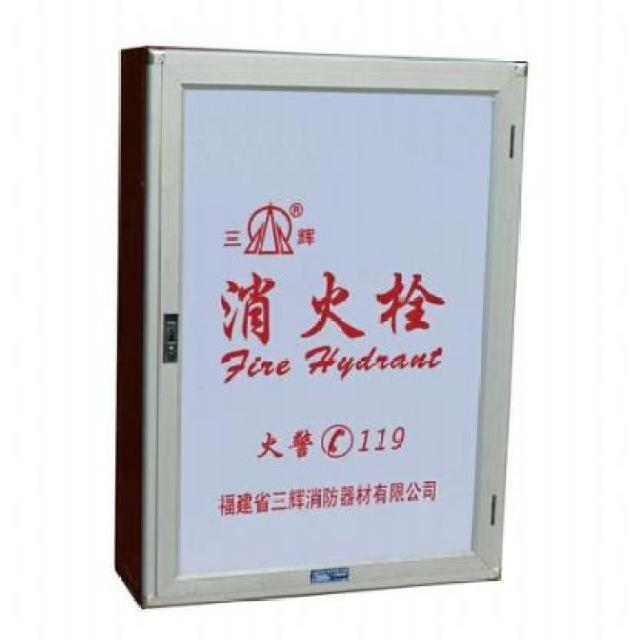firehydrant: (108, 39, 534, 618)
